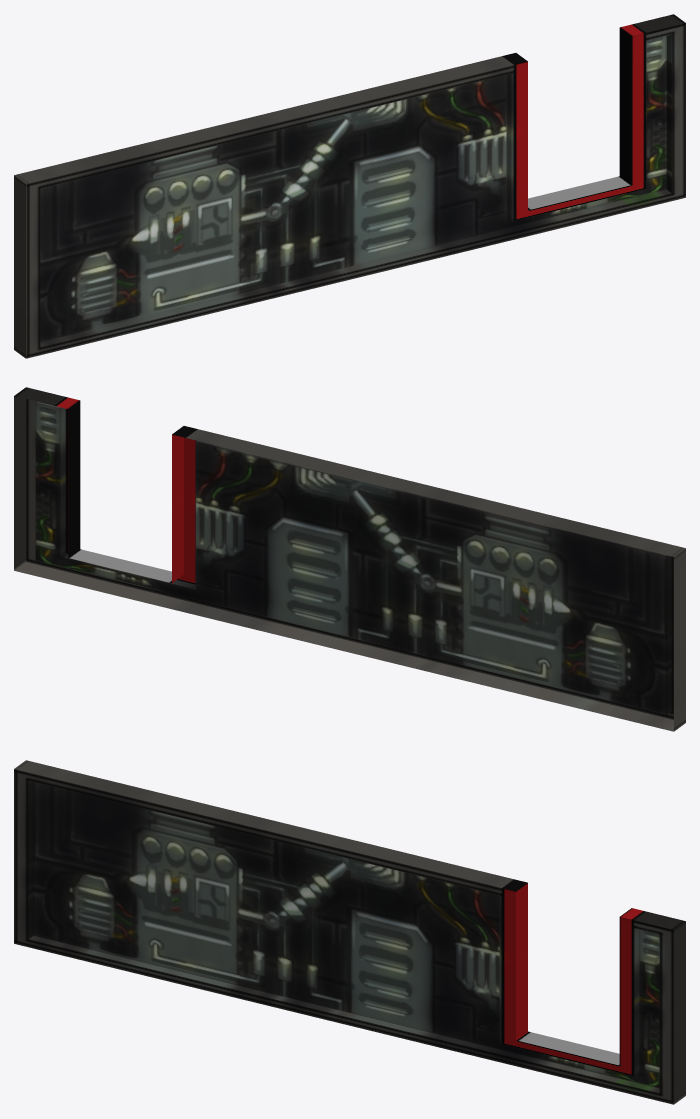
File: JUMP_RIGHT.fbx
3 views of the same model, one above another, from view 1: azimuth 30°, elevation 25°; view 2: azimuth 150°, elevation 25°; view 3: azimuth 330°, elevation 25° (orthographic).
Parts seen in each view (by area): view 1: wall4; view 2: wall4; view 3: wall4.
Boxes of the visible parts, <box> form: wall4: <box>14,14,685,358</box>; wall4: <box>14,387,685,731</box>; wall4: <box>14,760,685,1104</box>.
Size of the model in its own units: 40.08 by 10.14 by 1.27.
Materials: 1 (1 with a texture image).
